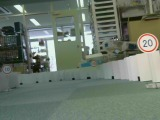speed_10: (1, 64, 12, 75)
speed_20: (137, 33, 159, 54)
